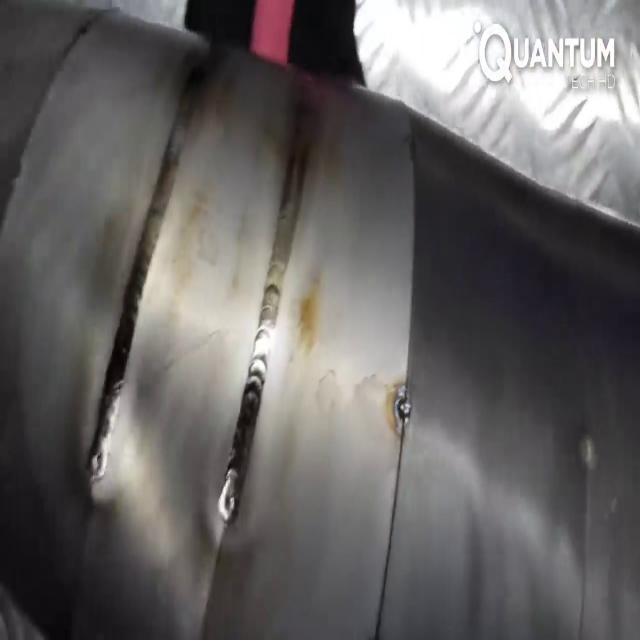Good Weld: (96, 187, 162, 476), (226, 218, 292, 474)
